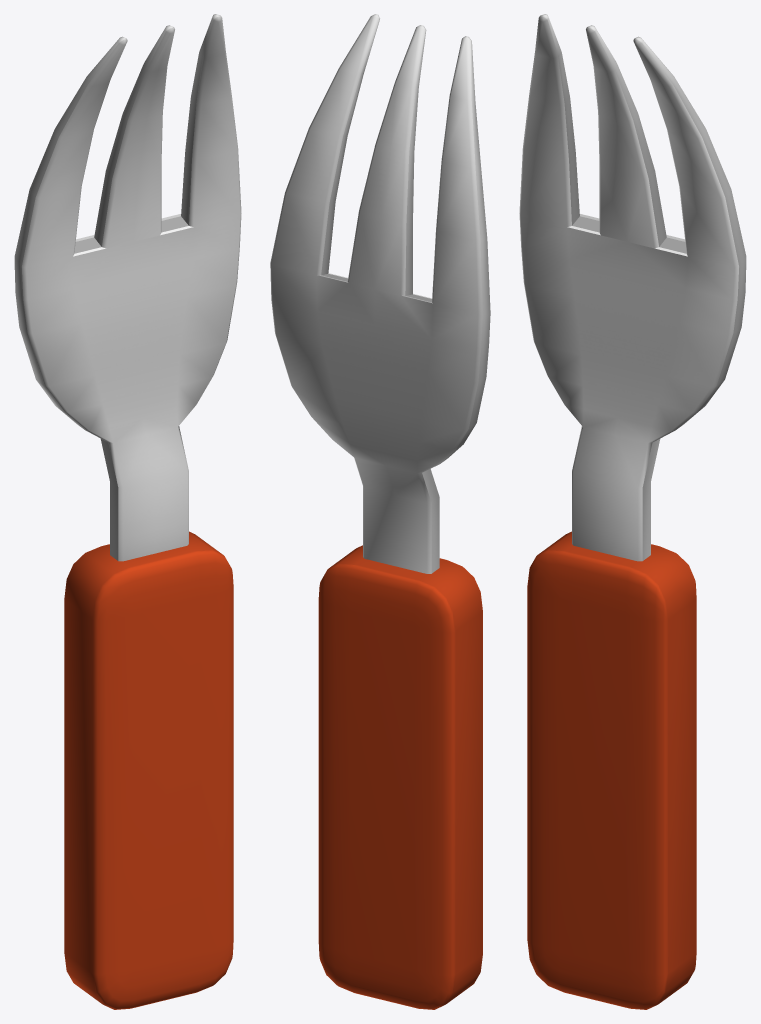
The model's file is fork.FBX.
3 views of the same model, side by side, from view 1: azimuth 30°, elevation 25°; view 2: azimuth 150°, elevation 25°; view 3: azimuth 330°, elevation 25° (orthographic). The views are drawn at different scales.
Visible parts, largest first — view 1: fork; view 2: fork; view 3: fork.
Boxes of the visible parts, x1,y1,x2,y2 form: fork: [14, 14, 241, 1009]; fork: [270, 14, 490, 1009]; fork: [519, 14, 746, 1009].
Size of the model in its own units: 9.52 by 40.53 by 3.77.
